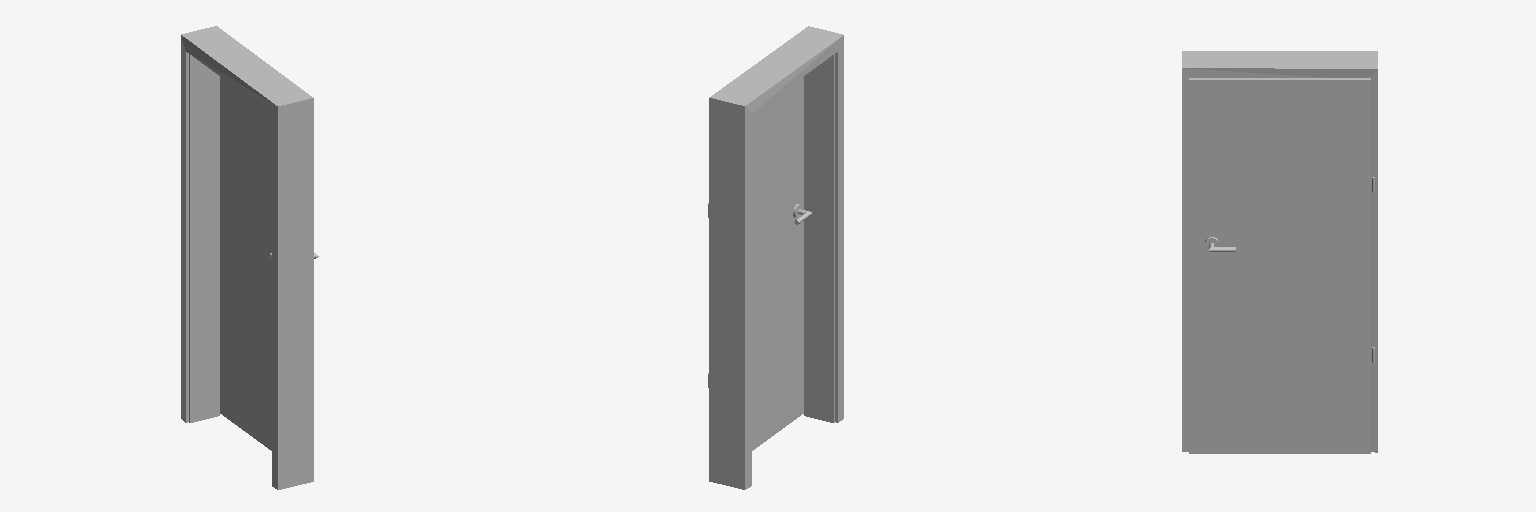
The model's file is door119.obj.
3 renders of one model, left to right at view 1: azimuth 30°, elevation 25°; view 2: azimuth 150°, elevation 25°; view 3: azimuth 270°, elevation 25°, orthographic.
Parts seen in each view (by area): view 1: Cylinder.005, Cylinder.001; view 2: Cylinder.005, Cylinder.001; view 3: Cylinder.001, Cylinder.005.
Boxes of the visible parts, <box> form: Cylinder.005: <box>181,26,313,489</box>; Cylinder.001: <box>220,77,271,450</box>; Cylinder.005: <box>708,26,843,489</box>; Cylinder.001: <box>708,77,803,450</box>; Cylinder.001: <box>1189,78,1374,453</box>; Cylinder.005: <box>1182,51,1377,452</box>.
Bounding box in the file's own units: 0.3039 × 2.05 × 0.95.